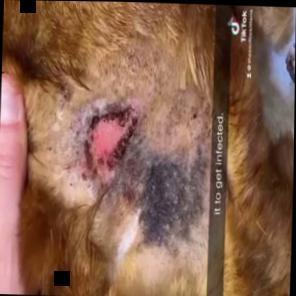skin_lesions: (79, 103, 134, 175)
